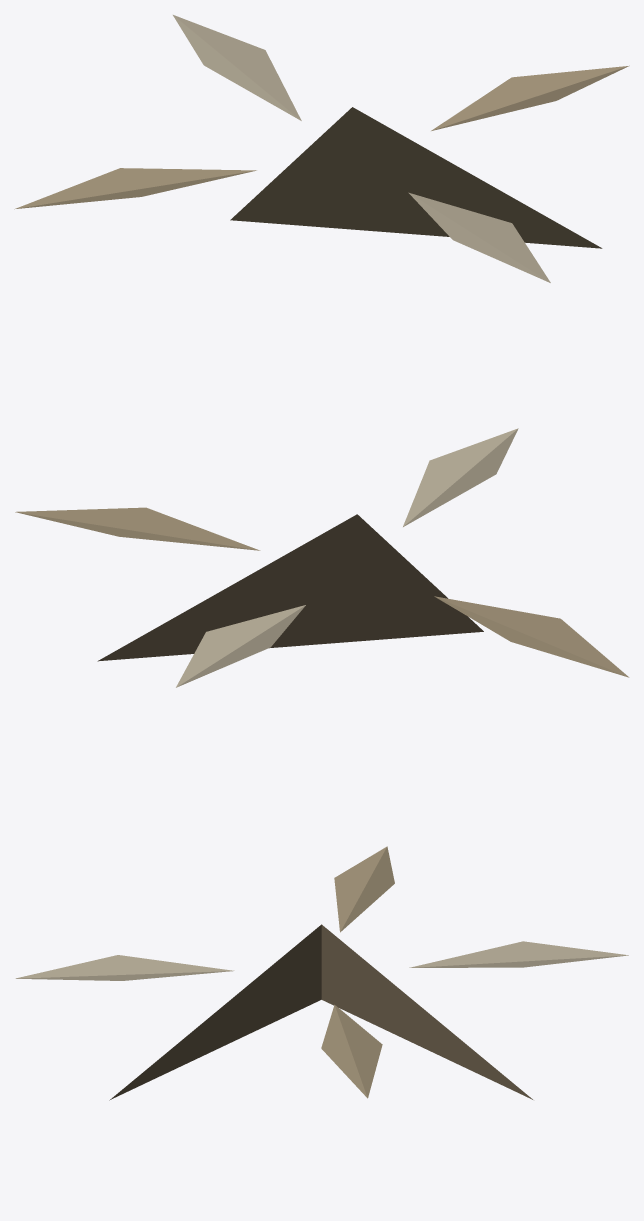
Rendered from nong.mai@withered__winter.glb.
3 renders of one model, top to bottom at view 1: azimuth 30°, elevation 25°; view 2: azimuth 150°, elevation 25°; view 3: azimuth 270°, elevation 25°, orthographic. The views are drawn at different scales.
Visible parts, largest first — view 1: nong.mai@withered__winter; view 2: nong.mai@withered__winter; view 3: nong.mai@withered__winter.
Boxes of the visible parts, box(x1,y1,x2,y2) form: nong.mai@withered__winter: box(14, 15, 629, 282); nong.mai@withered__winter: box(15, 428, 629, 687); nong.mai@withered__winter: box(15, 846, 628, 1100).
Size of the model in its own units: 0.2619 by 0.084 by 0.2662.
